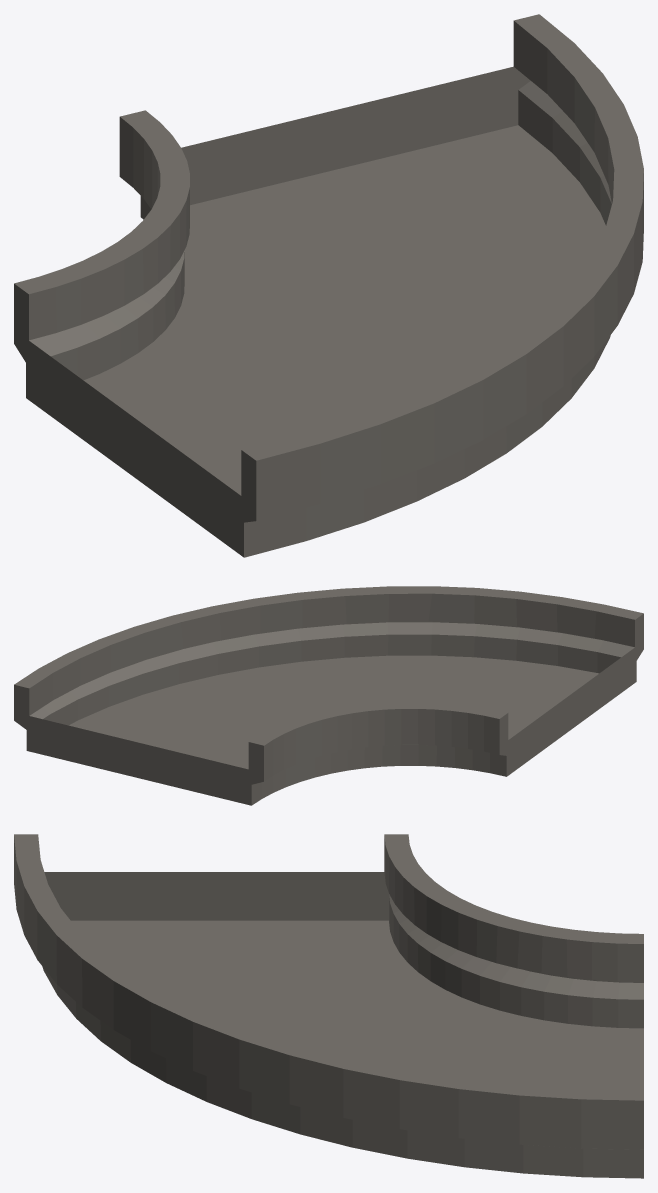
File: SM_Env_Road_Highway_Corner_01.glb
3 views of the same model, one above another, from view 1: azimuth 30°, elevation 25°; view 2: azimuth 150°, elevation 25°; view 3: azimuth 270°, elevation 25° (orthographic). The views are drawn at different scales.
Parts seen in each view (by area): view 1: SM_Env_Road_Highway_Corner_01; view 2: SM_Env_Road_Highway_Corner_01; view 3: SM_Env_Road_Highway_Corner_01.
Part boxes in pixels (box(x1,y1,x2,y2)): SM_Env_Road_Highway_Corner_01: box(14, 14, 643, 557); SM_Env_Road_Highway_Corner_01: box(14, 586, 643, 805); SM_Env_Road_Highway_Corner_01: box(14, 834, 643, 1178).
Bounding box in the file's own units: 18.2 × 2.75 × 18.2.
1 material, 1 textured.
